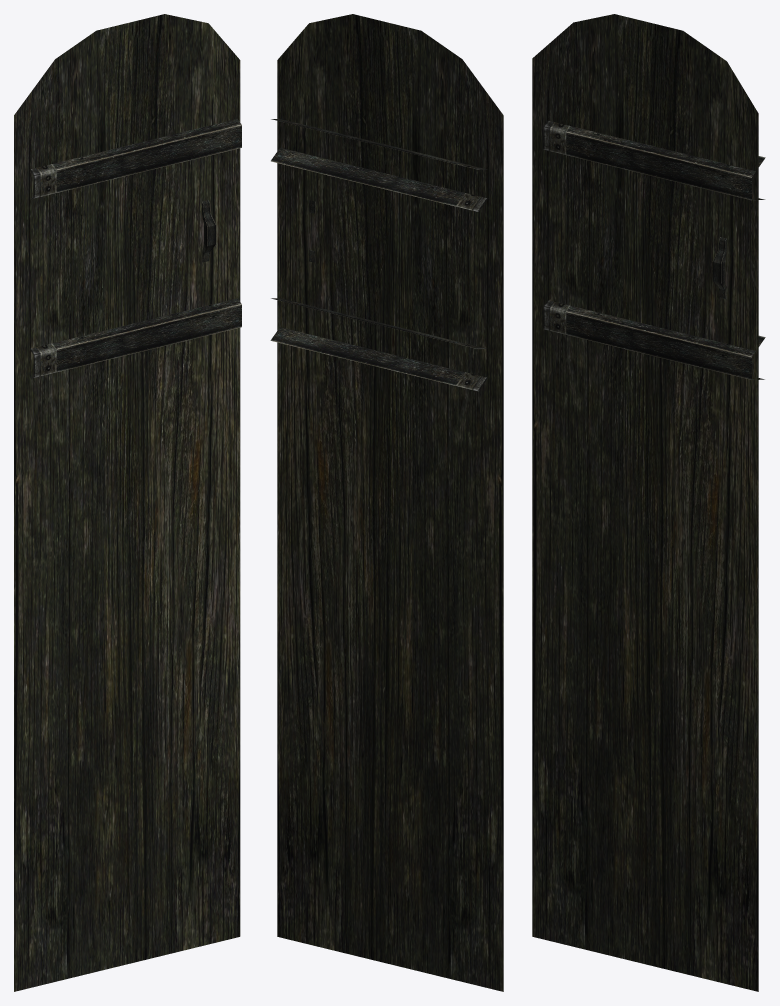
File: ex_nord_door_02.obj
3 renders of one model, left to right at view 1: azimuth 30°, elevation 25°; view 2: azimuth 150°, elevation 25°; view 3: azimuth 330°, elevation 25°, orthographic.
Parts seen in each view (by area): view 1: nifid_1-matrix_Tri_Ex_nord_door_02_0-lib, nifid_6-matrix_Tri_Ex_nord_door_02_1-lib, nifid_10-matrix_Tri_Ex_nord_door_02_2-lib; view 2: nifid_1-matrix_Tri_Ex_nord_door_02_0-lib, nifid_6-matrix_Tri_Ex_nord_door_02_1-lib, nifid_10-matrix_Tri_Ex_nord_door_02_2-lib; view 3: nifid_1-matrix_Tri_Ex_nord_door_02_0-lib, nifid_6-matrix_Tri_Ex_nord_door_02_1-lib, nifid_10-matrix_Tri_Ex_nord_door_02_2-lib.
Boxes of the visible parts, x1=… form: nifid_1-matrix_Tri_Ex_nord_door_02_0-lib: x1=14, y1=14, x2=240, y2=991; nifid_6-matrix_Tri_Ex_nord_door_02_1-lib: x1=52, y1=119, x2=241, y2=372; nifid_10-matrix_Tri_Ex_nord_door_02_2-lib: x1=29, y1=164, x2=56, y2=377; nifid_1-matrix_Tri_Ex_nord_door_02_0-lib: x1=277, y1=14, x2=503, y2=991; nifid_6-matrix_Tri_Ex_nord_door_02_1-lib: x1=270, y1=118, x2=464, y2=385; nifid_10-matrix_Tri_Ex_nord_door_02_2-lib: x1=456, y1=164, x2=487, y2=391; nifid_1-matrix_Tri_Ex_nord_door_02_0-lib: x1=532, y1=14, x2=758, y2=991; nifid_6-matrix_Tri_Ex_nord_door_02_1-lib: x1=566, y1=126, x2=765, y2=379; nifid_10-matrix_Tri_Ex_nord_door_02_2-lib: x1=543, y1=120, x2=570, y2=334.
Bounding box in the file's own units: 2.91 × 11.56 × 0.3617.
